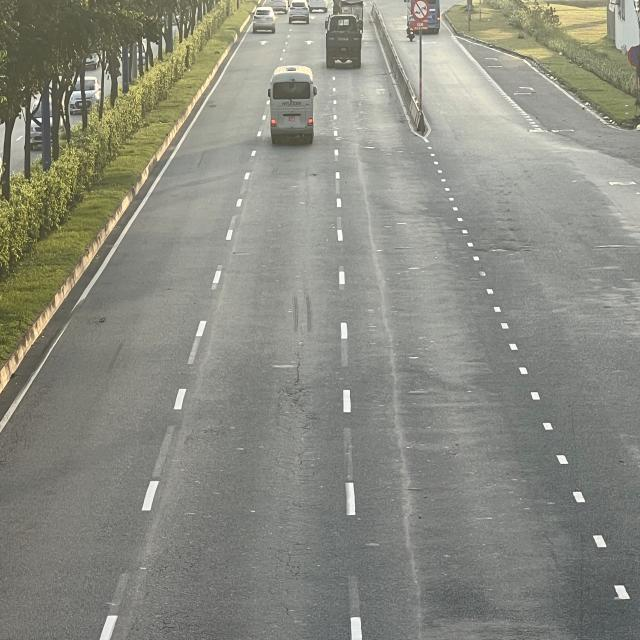coach: (267, 67, 317, 144)
truck: (326, 11, 364, 66)
